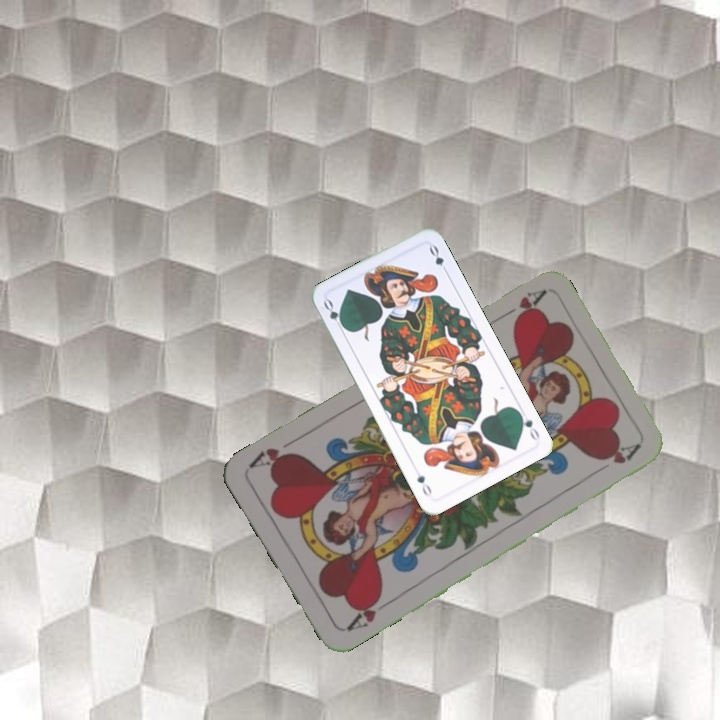GO: (319, 295, 349, 334), (514, 405, 542, 443)
HA: (342, 591, 395, 634), (494, 285, 548, 324)
